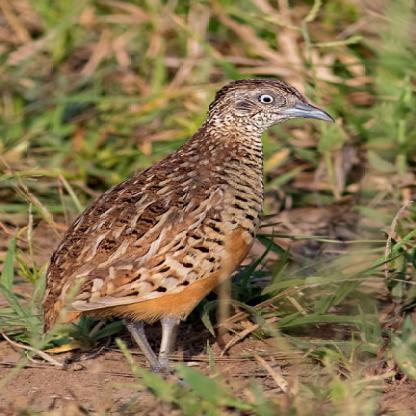Burung: (41, 77, 335, 390)
